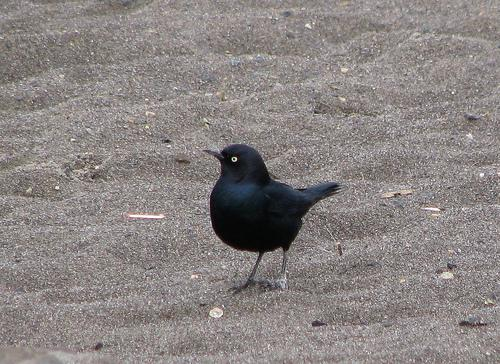009.Brewer_Blackbird: (199, 142, 344, 296)
